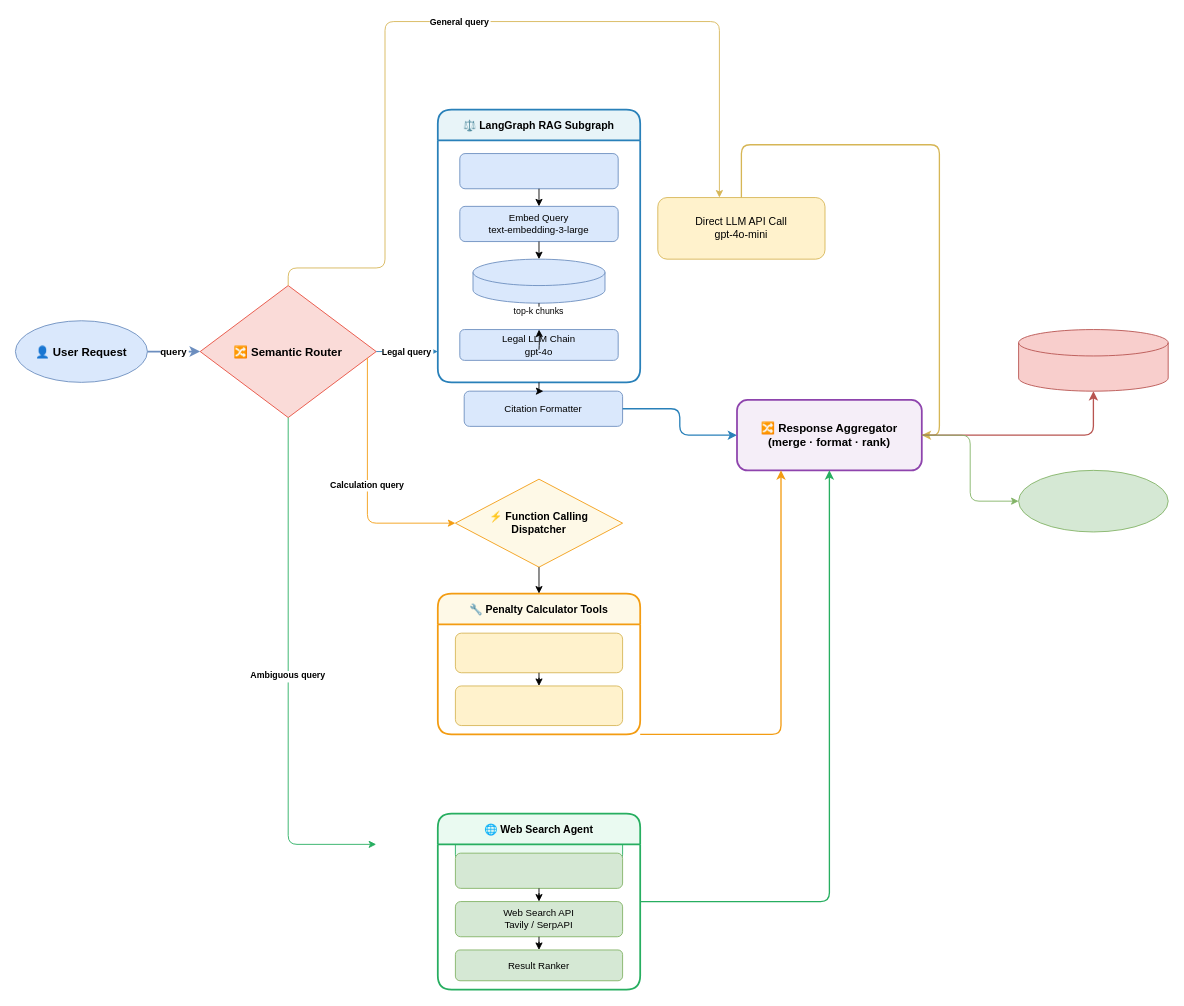
This 1184x1006 diagram has some shape labels left out. The centre of each missing label's shape, as x and y in pixels:
Intent Qualifier: the point at 538,171
Query Rewriter: the point at 539,870
Tool 1 — Compute Base Penalty penalty_calculator(): the point at 539,652
Tool 2 — Apply Mitigating Factors apply_factors(): the point at 539,705
✅ Response to User: the point at 1093,500
🗄️ Conversation History MariaDB: the point at 1093,360
🗄️ Qdrant Vector DB collection: llm: the point at 538,280
